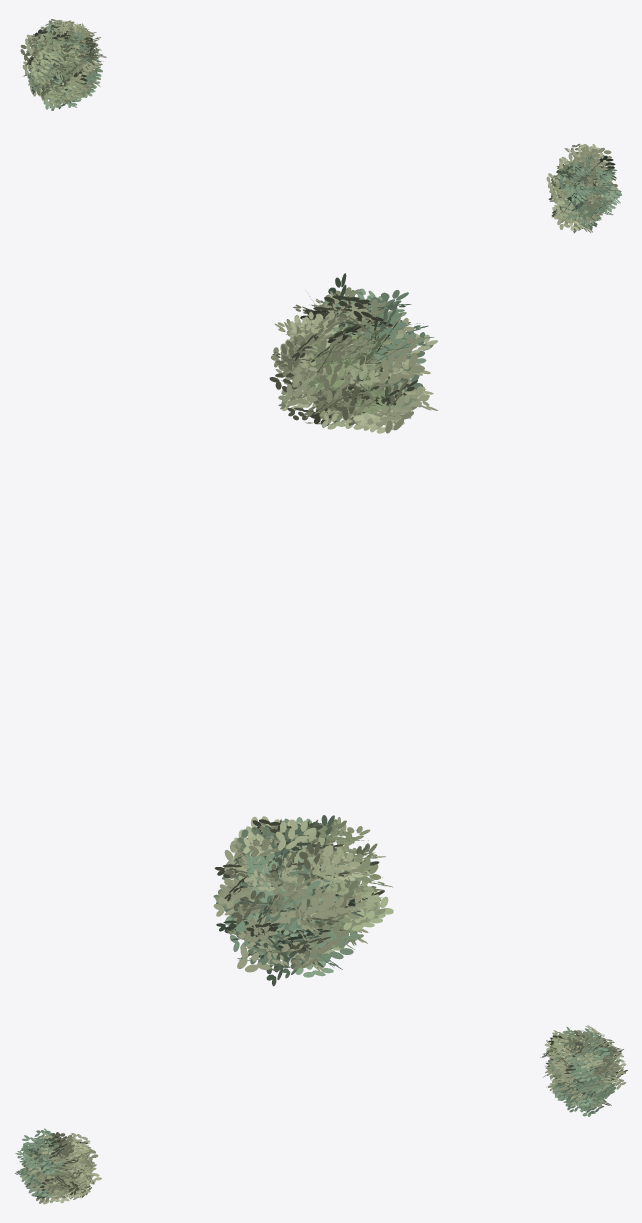
File: campus-tree--3_-2-near.glb
The picture shows the model from 3 angles, top to bottom: view 1: azimuth 30°, elevation 25°; view 2: azimuth 150°, elevation 25°; view 3: azimuth 270°, elevation 25°; orthographic projection. The views are drawn at different scales.
Visible parts, largest first — view 1: Campus leaf canopy; view 2: Campus leaf canopy; view 3: Campus leaf canopy.
Part boxes in pixels (x1,y1,x2,y2): Campus leaf canopy: (20,19,621,233); Campus leaf canopy: (213,273,437,986); Campus leaf canopy: (15,1025,627,1204).
Bounding box in the file's own units: 20.16 × 6.56 × 34.6.
Materials: 1 (1 with a texture image).
